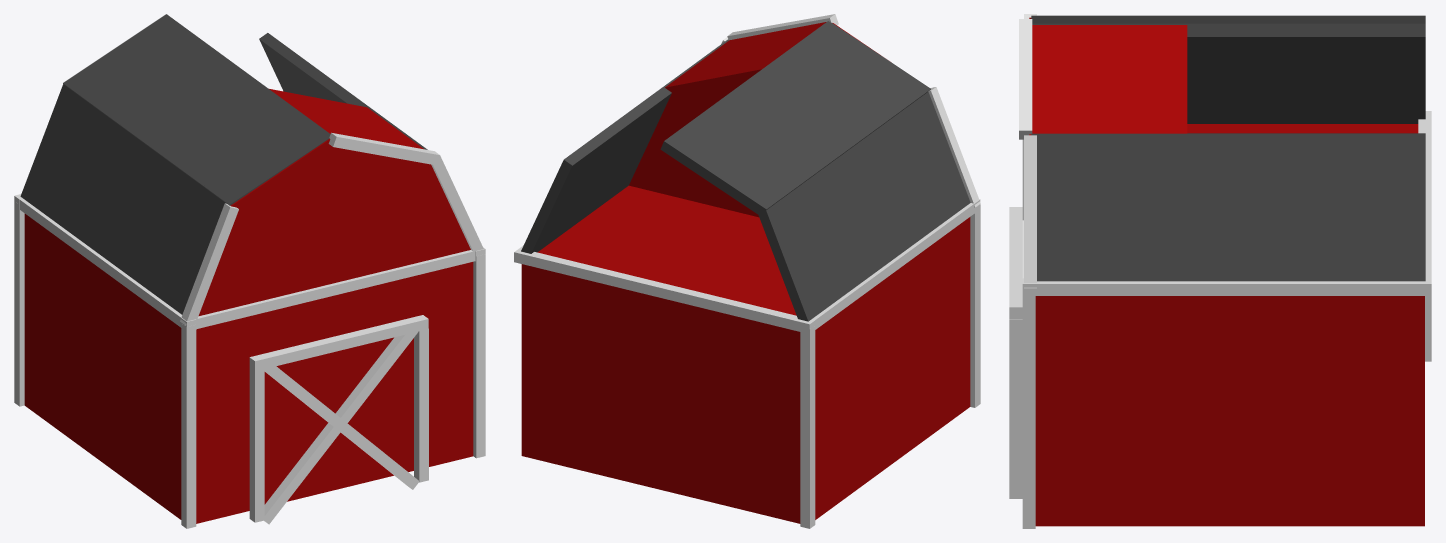
The model's file is barn.gltf.
3 views of the same model, side by side, from view 1: azimuth 30°, elevation 25°; view 2: azimuth 150°, elevation 25°; view 3: azimuth 270°, elevation 25° (orthographic). The views are drawn at different scales.
Parts seen in each view (by area): view 1: Cube, Cylinder, Cube.025, Cube.011, Cube.005, Cube.024, Cube.002, Cube.010, Cube.020, Cube.004, Cube.022, Cube.008 (+6 smaller); view 2: Cube, Cube.025, Cube.011, Cylinder, Cube.010, Cube.006, Cube.001, Cube.008, Cube.002, Cube.012, Cube.017; view 3: Cube, Cube.010, Cube.011, Cylinder, Cube.025, Cube.007, Cube.004, Cube.021, Cube.014, Cube.017, Cube.020, Cube.006.
Part boxes in pixels (left/top/right/bottom): Cube: left=24, top=213, right=473, bottom=523; Cylinder: left=198, top=89, right=470, bottom=315; Cube.025: left=63, top=14, right=330, bottom=205; Cube.011: left=20, top=84, right=230, bottom=314; Cube.005: left=180, top=247, right=484, bottom=328; Cube.024: left=264, top=331, right=417, bottom=524; Cube.002: left=181, top=323, right=196, bottom=528; Cube.010: left=259, top=33, right=427, bottom=149; Cube.020: left=249, top=315, right=428, bottom=371; Cube.004: left=473, top=254, right=485, bottom=458; Cube.022: left=249, top=368, right=264, bottom=522; Cube.008: left=15, top=194, right=196, bottom=329; Cube: left=521, top=185, right=970, bottom=523; Cube.025: left=660, top=21, right=930, bottom=217; Cube.011: left=757, top=92, right=970, bottom=321; Cylinder: left=629, top=22, right=879, bottom=217; Cube.010: left=521, top=39, right=728, bottom=253; Cube.006: left=517, top=250, right=815, bottom=331; Cube.001: left=800, top=325, right=815, bottom=528; Cube.008: left=800, top=199, right=980, bottom=334; Cube.002: left=970, top=204, right=980, bottom=407; Cube.012: left=928, top=87, right=980, bottom=207; Cube.017: left=727, top=14, right=838, bottom=40; Cube: left=1035, top=124, right=1424, bottom=526; Cube.010: left=1031, top=133, right=1425, bottom=281; Cube.011: left=1187, top=37, right=1425, bottom=123; Cylinder: left=1029, top=17, right=1187, bottom=135; Cube.025: left=1031, top=15, right=1425, bottom=36; Cube.007: left=1022, top=278, right=1431, bottom=295; Cube.004: left=1022, top=290, right=1035, bottom=528; Cube.021: left=1009, top=319, right=1022, bottom=498; Cube.014: left=1024, top=135, right=1036, bottom=288; Cube.017: left=1019, top=19, right=1032, bottom=139; Cube.020: left=1009, top=207, right=1022, bottom=319; Cube.006: left=1418, top=111, right=1431, bottom=283.
Bounding box in the file's own units: 3.11 × 3.65 × 3.2.
